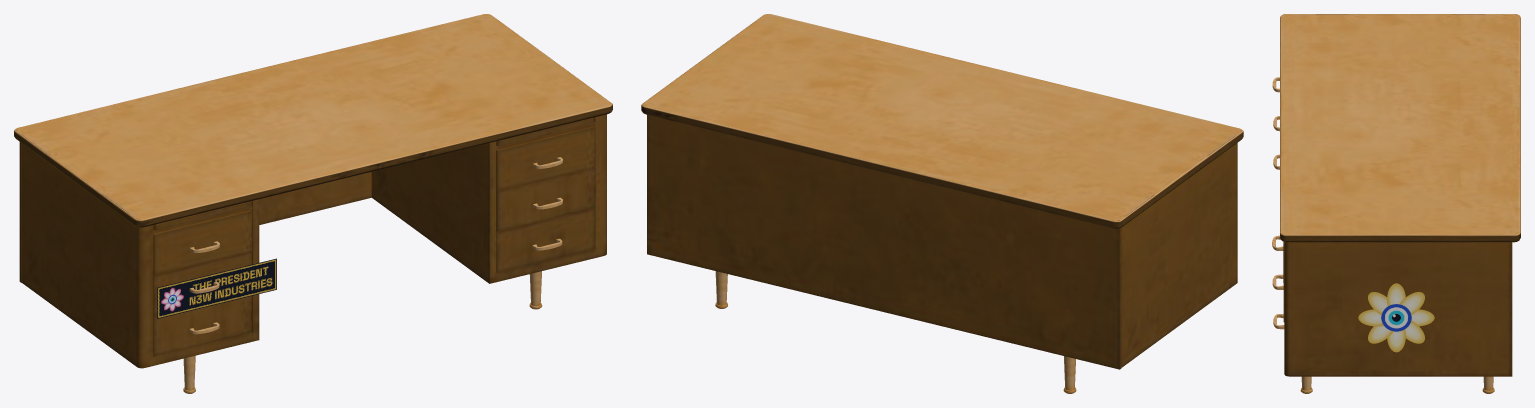
The model's file is nyb_hudsucker_desk.glb.
3 renders of one model, left to right at view 1: azimuth 30°, elevation 25°; view 2: azimuth 150°, elevation 25°; view 3: azimuth 270°, elevation 25°, orthographic. The views are drawn at different scales.
Parts seen in each view (by area): view 1: metal_office_desk_drawer_06, stk_lbl_68581f2876.png; view 2: metal_office_desk_drawer_06; view 3: metal_office_desk_drawer_06, stk_eyeflower_gold.png.
Part boxes in pixels (left/top/right/bottom): metal_office_desk_drawer_06: left=14, top=14, right=612, bottom=393; stk_lbl_68581f2876.png: left=157, top=258, right=276, bottom=318; metal_office_desk_drawer_06: left=641, top=14, right=1243, bottom=393; metal_office_desk_drawer_06: left=1272, top=14, right=1520, bottom=393; stk_eyeflower_gold.png: left=1358, top=283, right=1434, bottom=352.
Size of the model in its own units: 2 by 0.7875 by 0.9472.
Materials: 3 (3 with a texture image).
